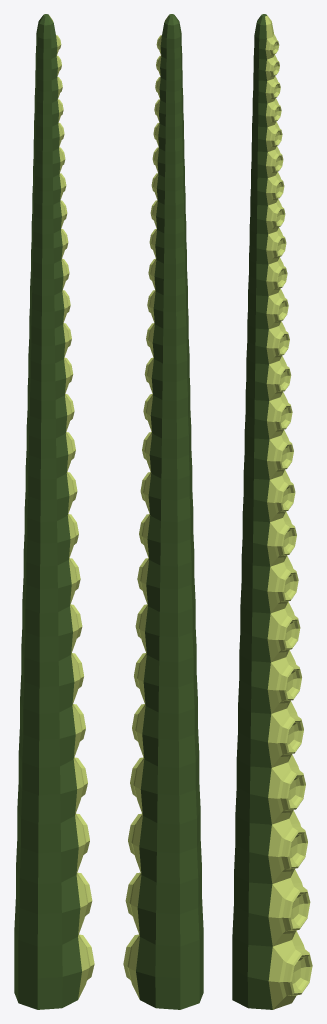
Rendered from Kraken.fbx.
The picture shows the model from 3 angles, left to right: view 1: azimuth 30°, elevation 25°; view 2: azimuth 150°, elevation 25°; view 3: azimuth 330°, elevation 25°; orthographic projection.
Visible parts, largest first — view 1: Circle; view 2: Circle; view 3: Circle.
Boxes of the visible parts, bbox=[...] form: Circle: bbox=[14, 14, 94, 1009]; Circle: bbox=[123, 14, 203, 1009]; Circle: bbox=[232, 14, 312, 1009].
Size of the model in its own units: 135 by 1931 by 117.
